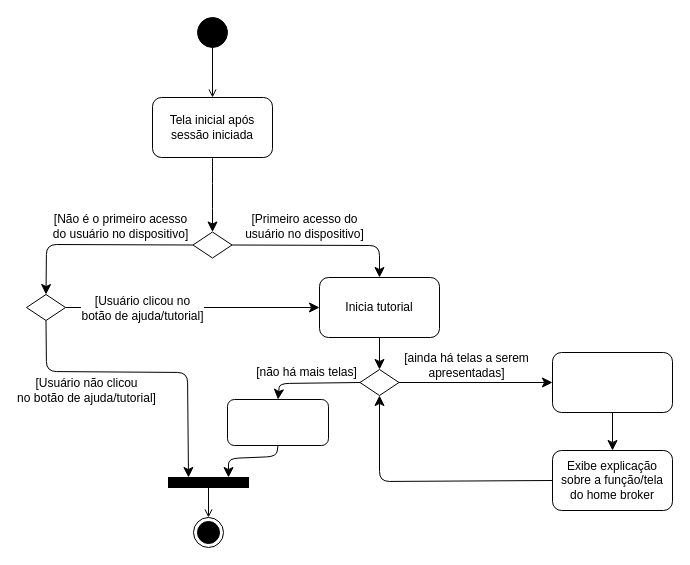
This 690x565 diagram has some shape labels left out. The centre of each missing label's shape, as x and y in pixels:
Encerra tutorial: pixel 277 422
Segue para a próxima tela: pixel 612 382
